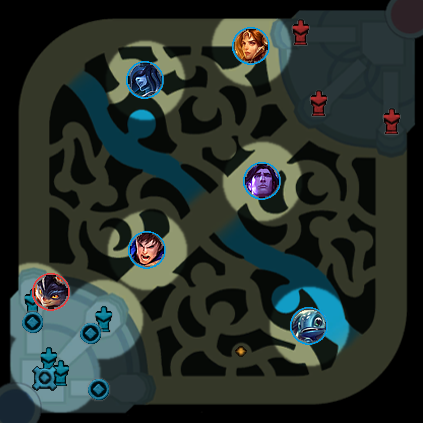Fizz: (290, 307, 328, 345)
Garen: (128, 231, 166, 269)
Leona: (232, 27, 270, 65)
Lissandra: (126, 61, 164, 99)
Rumble: (32, 273, 70, 311)
Taric: (243, 162, 281, 200)
